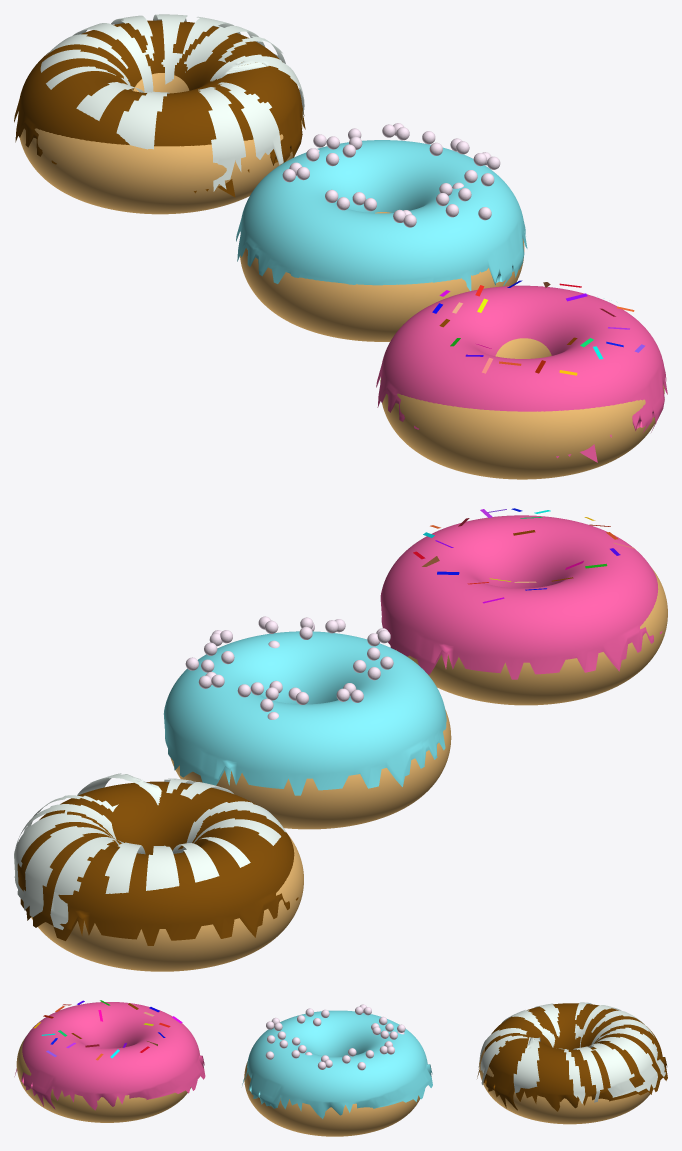
File: donett.glb
3 renders of one model, top to bottom at view 1: azimuth 30°, elevation 25°; view 2: azimuth 150°, elevation 25°; view 3: azimuth 270°, elevation 25°, orthographic. The views are drawn at different scales.
Visible parts, largest first — view 1: Torus.007, Torus.002, Torus.004, Torus.001, Torus.003, Torus.005, Torus.006, Torus.008; view 2: Torus.002, Torus.007, Torus.004, Torus.005, Torus.003, Torus.006, Torus.001, Torus.008; view 3: Torus.002, Torus.007, Torus.004, Torus.005, Torus.006, Torus.001, Torus.003, Torus.008.
Part boxes in pixels (x1=…): Torus.007: x1=236, y1=140, x2=527, y2=290; Torus.002: x1=376, y1=285, x2=667, y2=462; Torus.004: x1=14, y1=20, x2=305, y2=197; Torus.001: x1=380, y1=338, x2=664, y2=479; Torus.003: x1=18, y1=73, x2=302, y2=214; Torus.005: x1=40, y1=14, x2=285, y2=191; Torus.006: x1=240, y1=212, x2=524, y2=341; Torus.008: x1=210, y1=54, x2=304, y2=122; Torus.002: x1=380, y1=515, x2=662, y2=679; Torus.007: x1=163, y1=631, x2=446, y2=795; Torus.004: x1=17, y1=781, x2=298, y2=945; Torus.005: x1=14, y1=778, x2=285, y2=929; Torus.003: x1=31, y1=835, x2=303, y2=971; Torus.006: x1=170, y1=710, x2=451, y2=829; Torus.001: x1=396, y1=567, x2=667, y2=705; Torus.008: x1=77, y1=773, x2=161, y2=805; Torus.002: x1=14, y1=1002, x2=205, y2=1110; Torus.007: x1=242, y1=1010, x2=432, y2=1118; Torus.004: x1=477, y1=1003, x2=667, y2=1111; Torus.005: x1=478, y1=1002, x2=665, y2=1103; Torus.006: x1=244, y1=1061, x2=420, y2=1136; Torus.001: x1=16, y1=1037, x2=191, y2=1122; Torus.003: x1=479, y1=1048, x2=653, y2=1124; Torus.008: x1=513, y1=1037, x2=540, y2=1093.
Size of the model in its own units: 1.51 by 0.6603 by 4.62.
